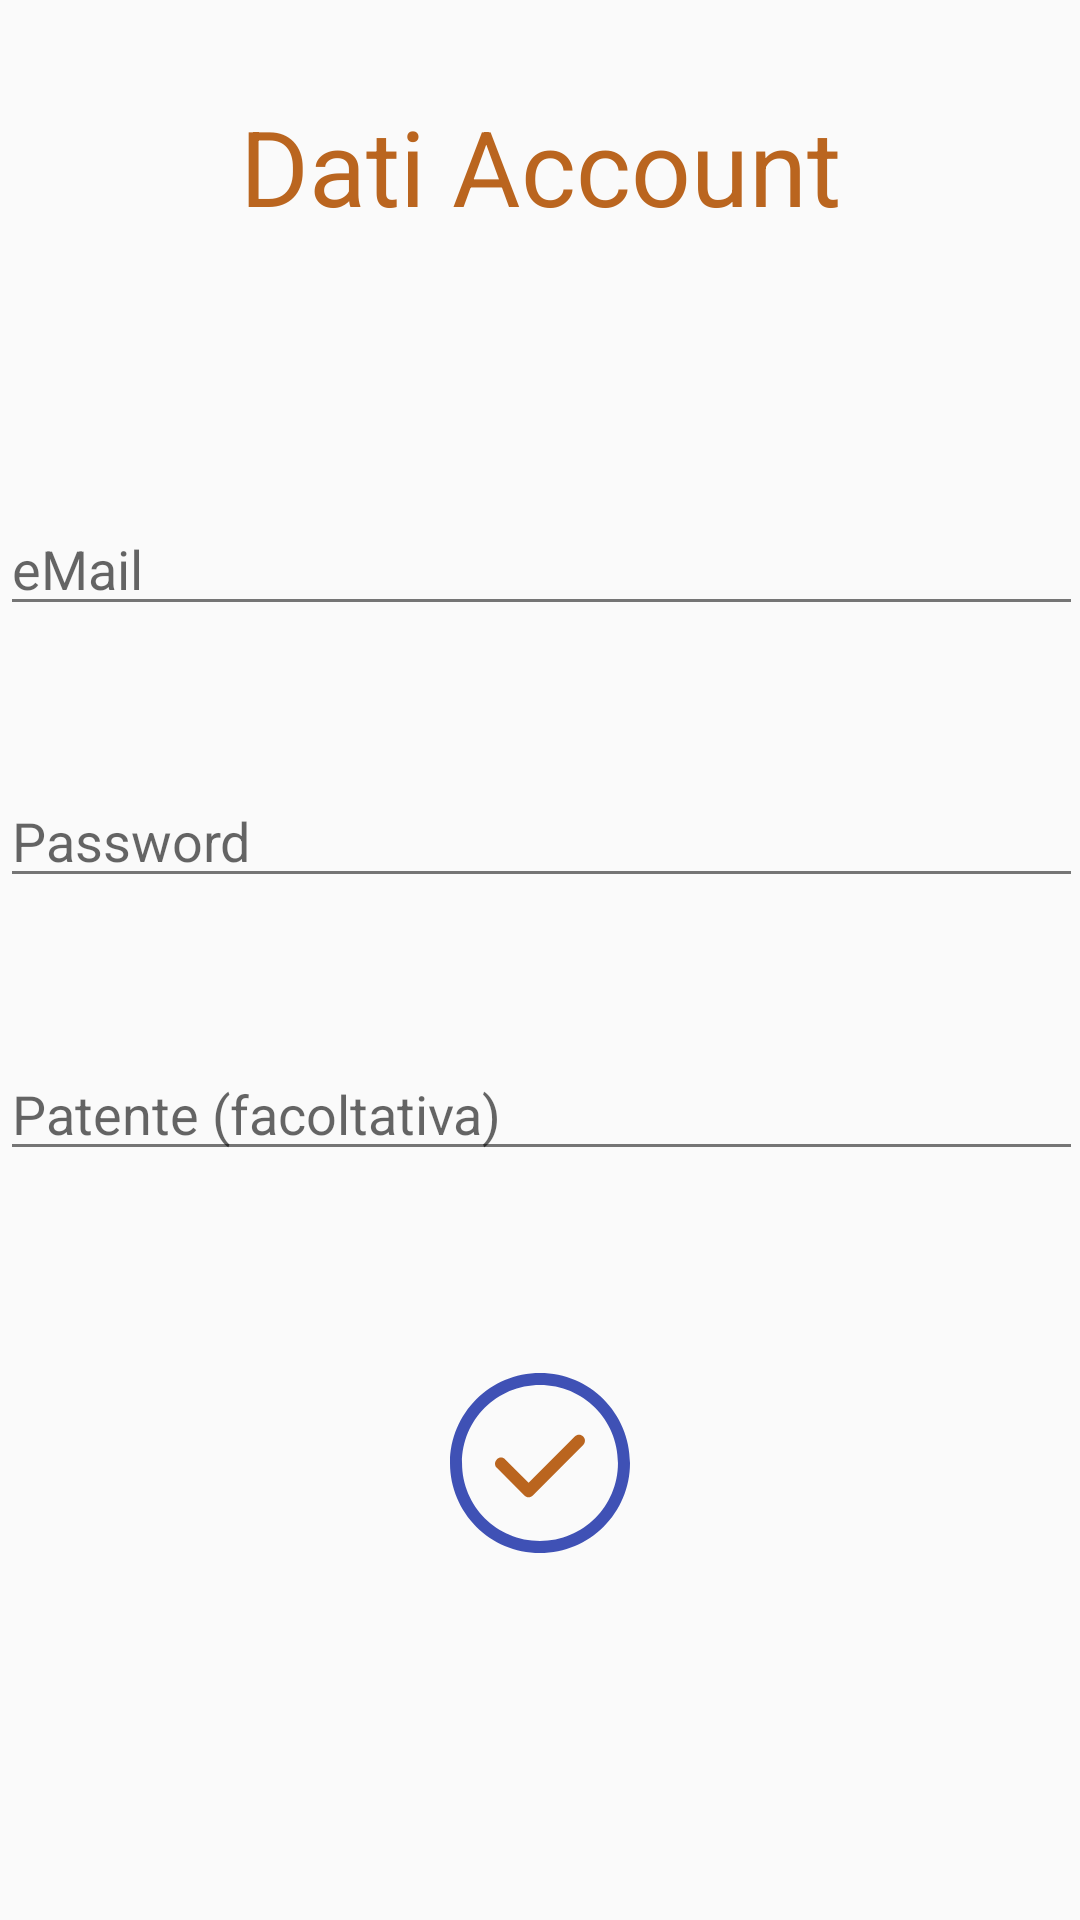

Icon bounding boxes for this 1080×1920 phone screenshot, format {"left": x1, "top": y1, "right": x2, "bottom": y2}:
confirm: {"left": 450, "top": 1373, "right": 630, "bottom": 1553}
